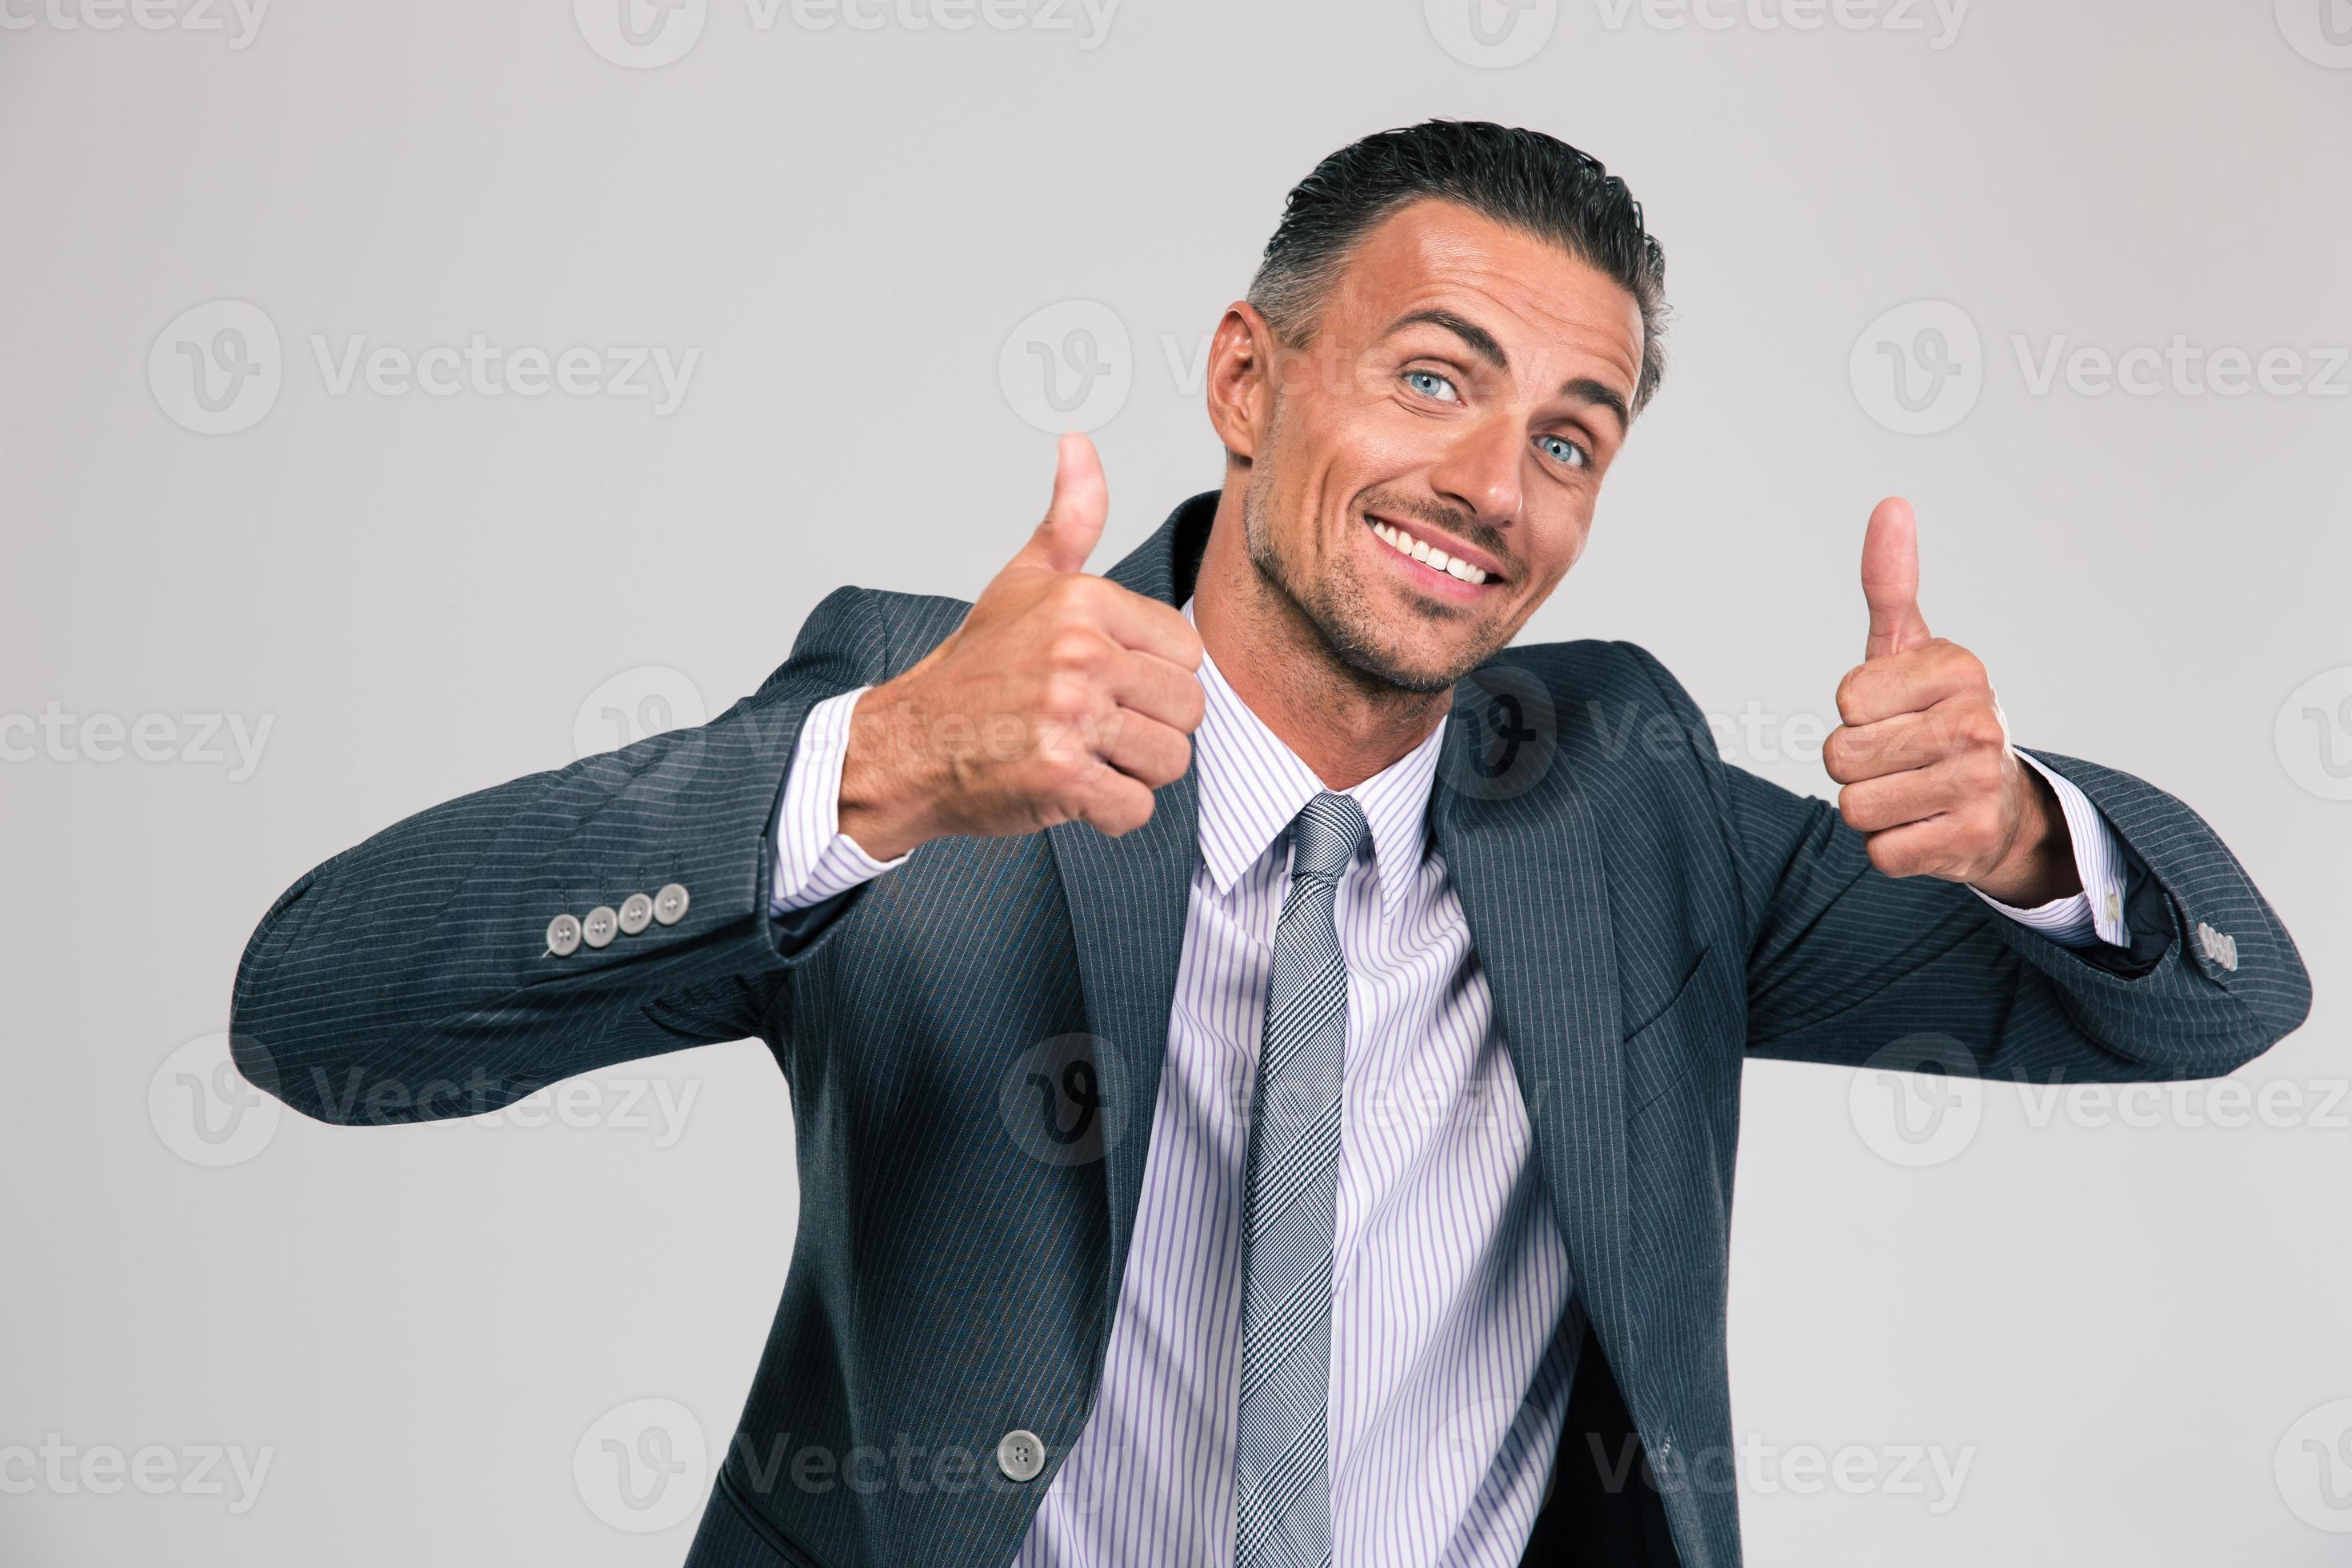thumbsUp: (880, 423, 1206, 878), (1806, 485, 2061, 940)
